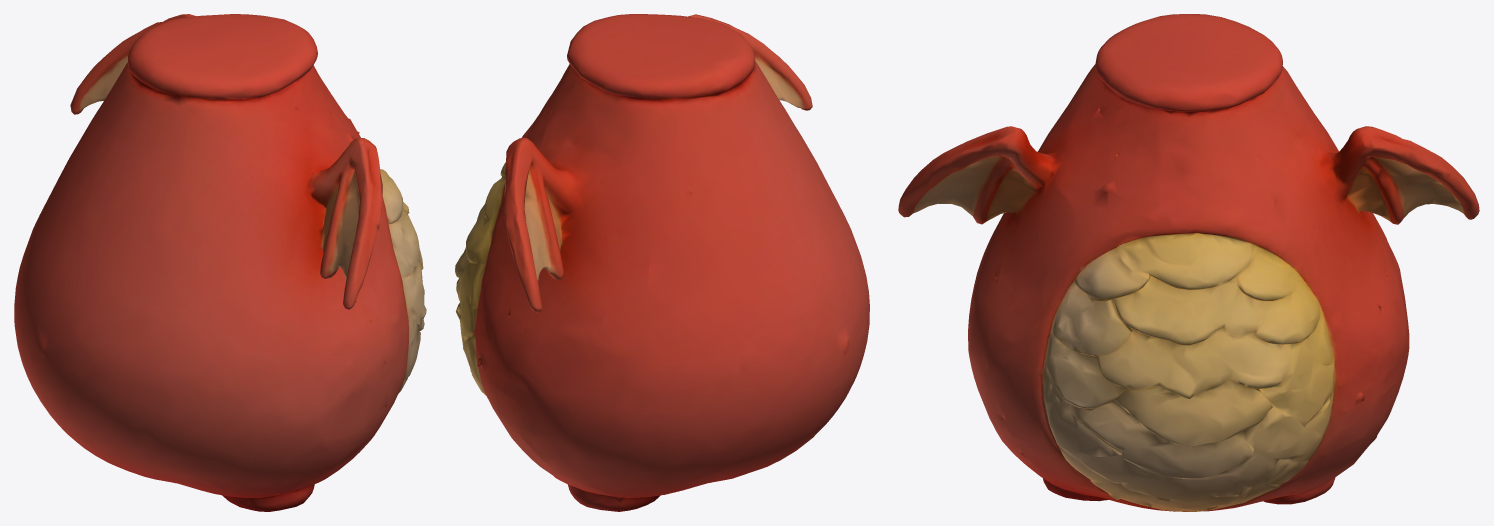
Rendered from body.glb.
The picture shows the model from 3 angles, left to right: view 1: azimuth 30°, elevation 25°; view 2: azimuth 150°, elevation 25°; view 3: azimuth 270°, elevation 25°; orthographic projection. The views are drawn at different scales.
Parts seen in each view (by area): view 1: tripo_node_98dccb93-876c-4d8d-9f37-dd090044ab13; view 2: tripo_node_98dccb93-876c-4d8d-9f37-dd090044ab13; view 3: tripo_node_98dccb93-876c-4d8d-9f37-dd090044ab13.
Part boxes in pixels (box(x1,y1,x2,y2)): tripo_node_98dccb93-876c-4d8d-9f37-dd090044ab13: box(14, 14, 426, 511); tripo_node_98dccb93-876c-4d8d-9f37-dd090044ab13: box(455, 14, 869, 511); tripo_node_98dccb93-876c-4d8d-9f37-dd090044ab13: box(898, 14, 1479, 511).
Bounding box in the file's own units: 0.7592 × 0.8327 × 1.
Materials: 1 (1 with a texture image).
